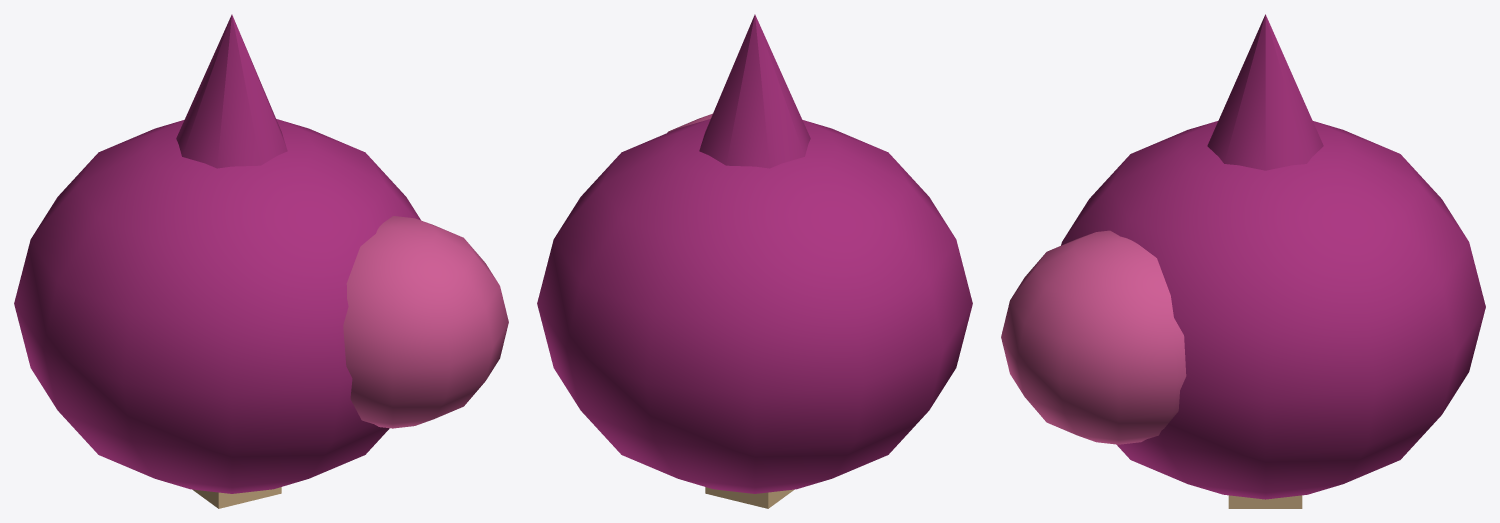
The model's file is onion.glb.
3 views of the same model, side by side, from view 1: azimuth 30°, elevation 25°; view 2: azimuth 150°, elevation 25°; view 3: azimuth 270°, elevation 25° (orthographic).
Visible parts, largest first — view 1: root; view 2: root; view 3: root.
Part boxes in pixels (box(x1,y1,x2,y2)): root: box(14, 14, 508, 508); root: box(537, 14, 972, 508); root: box(1001, 14, 1485, 508).
Bounding box in the file's own units: 0.3 × 0.36 × 0.33.
